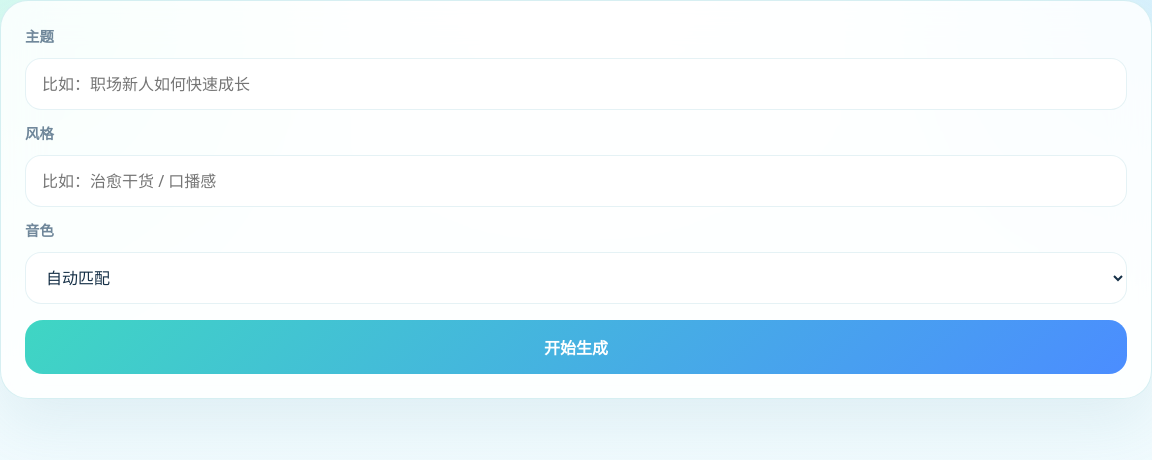
JobForm › blocks submission when topic or style is empty
The image size is (1152, 460).
Click the button "开始生成". click: point(576, 347)
box: [25, 320, 1127, 374]
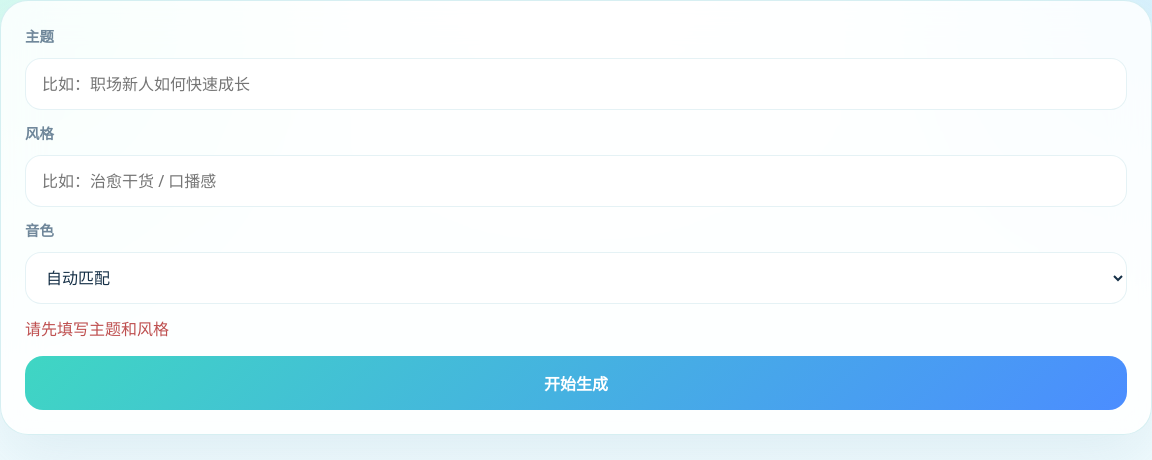
Result: the message reads "请先填写主题和风格" at [25, 318, 169, 340]
